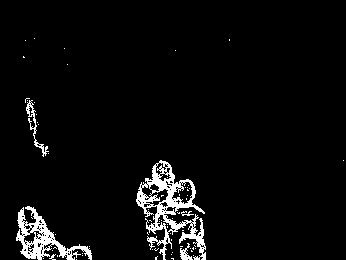person: (140, 159, 172, 258), (18, 90, 49, 163)
